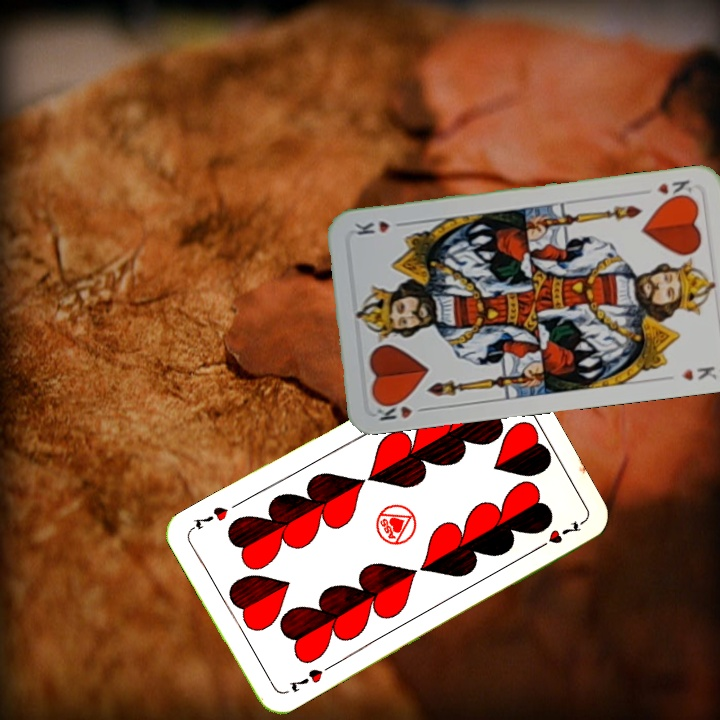H7: (286, 664, 326, 695)
HK: (373, 395, 431, 424), (653, 176, 695, 203)
